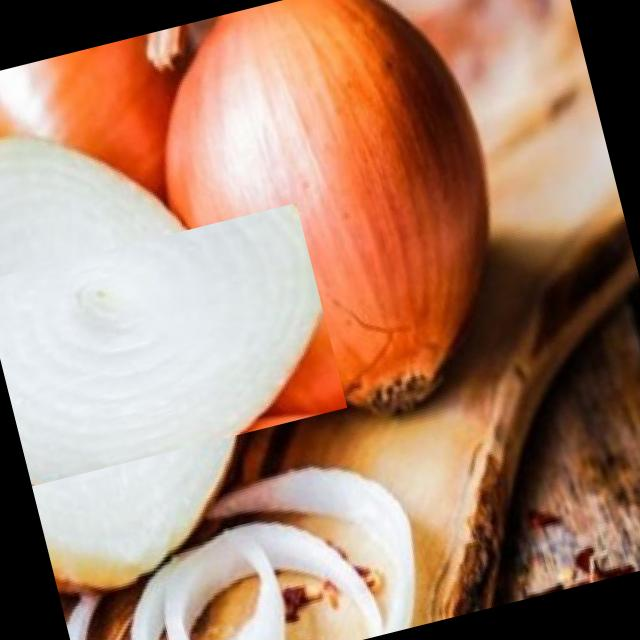Onion: (148, 0, 549, 440), (0, 161, 306, 541)
